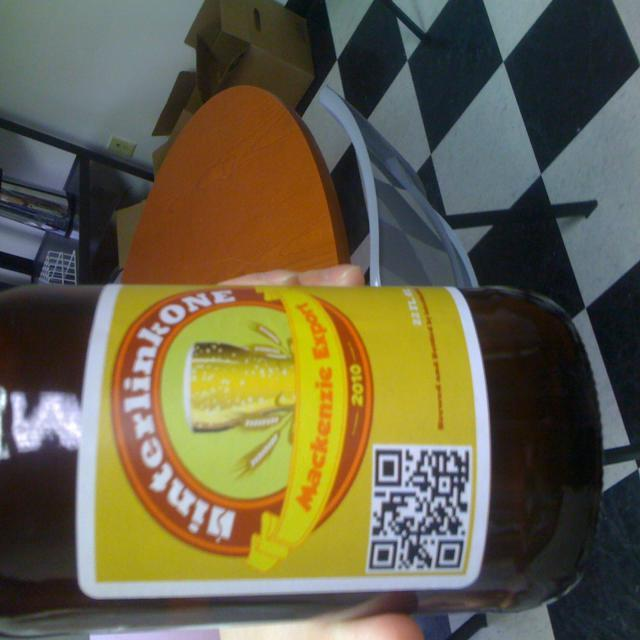qrcode: (369, 451, 470, 570)
